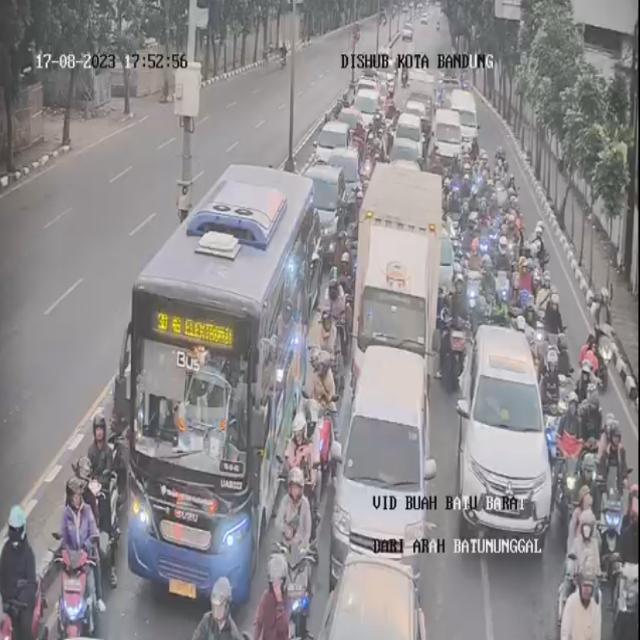bunch of motorcycle: (451, 174, 522, 324)
bus: (136, 284, 258, 598)
cars: (337, 342, 441, 585), (451, 325, 555, 553), (358, 164, 448, 386), (311, 560, 430, 640), (306, 167, 348, 241), (329, 148, 364, 206), (391, 113, 425, 171), (317, 119, 353, 163), (449, 91, 480, 142), (434, 110, 464, 158), (339, 95, 365, 142)
motorcycle: (48, 459, 101, 639), (74, 412, 124, 597), (273, 476, 323, 640), (279, 409, 329, 571), (295, 354, 346, 500), (0, 501, 44, 638), (598, 422, 627, 584), (554, 399, 584, 534), (185, 576, 247, 640), (309, 304, 346, 411), (564, 501, 603, 597), (575, 455, 602, 562), (560, 571, 600, 640), (539, 352, 562, 468), (580, 386, 604, 486), (542, 288, 566, 388), (448, 273, 468, 384), (325, 276, 348, 355), (330, 252, 354, 323), (466, 238, 486, 323), (496, 237, 512, 313), (516, 259, 533, 322), (532, 219, 548, 282), (576, 363, 591, 417), (336, 228, 352, 278), (457, 204, 473, 248)
